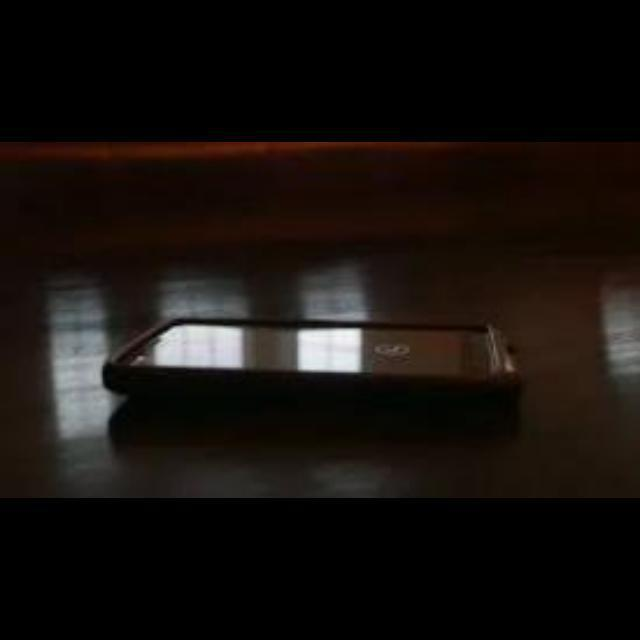PhoneUse: (112, 291, 548, 407)
